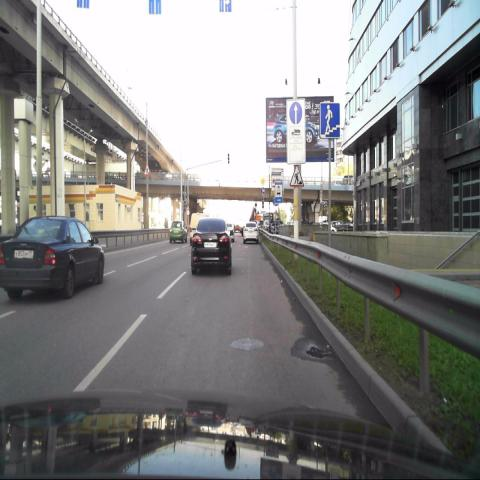1_25: (290, 166, 304, 186)
6_6: (320, 103, 340, 137)
7_5: (275, 182, 282, 202)
